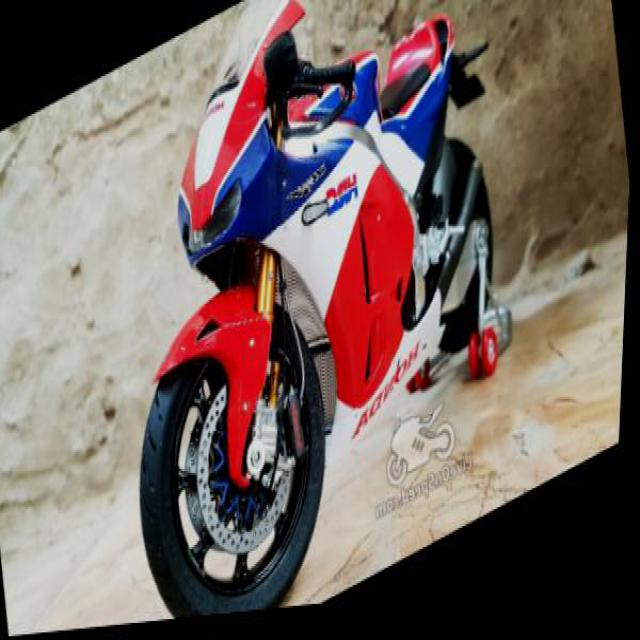HRC RCV 213: (80, 0, 544, 631)
